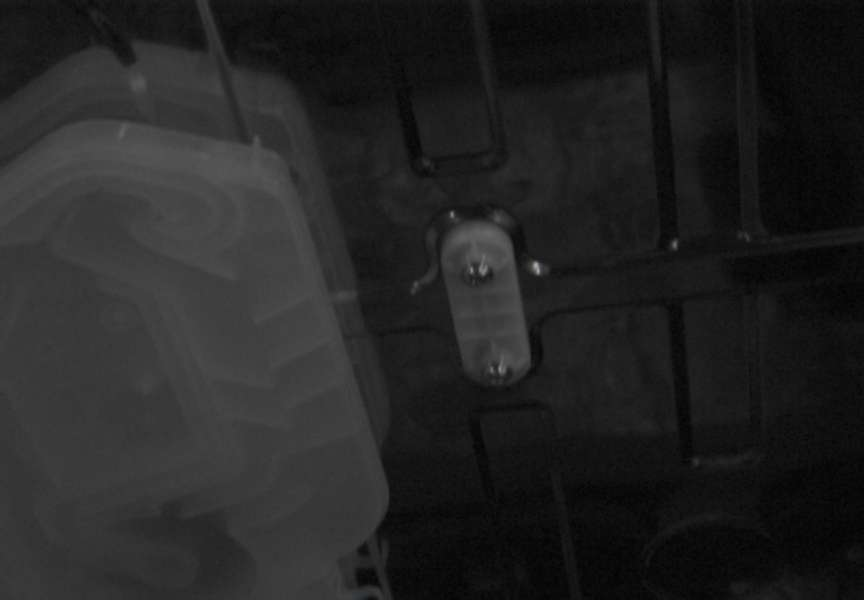screw: (462, 258, 494, 287), (484, 360, 513, 386)
